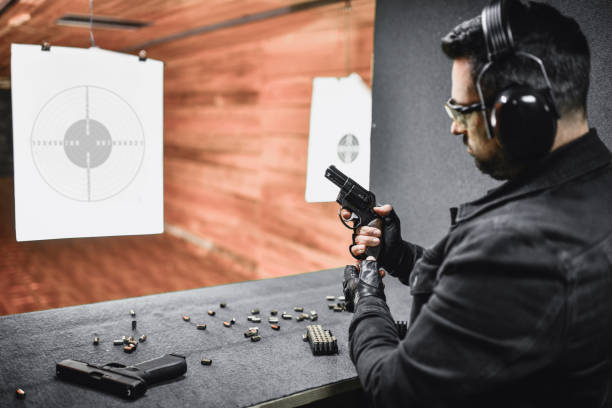gun: (55, 353, 188, 403), (323, 164, 383, 261)
